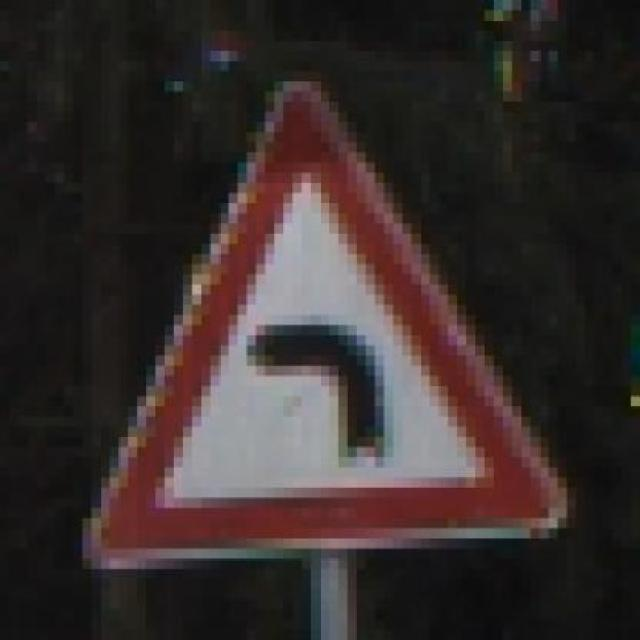Dangerous Left Curve Ahead: (82, 72, 567, 579)
